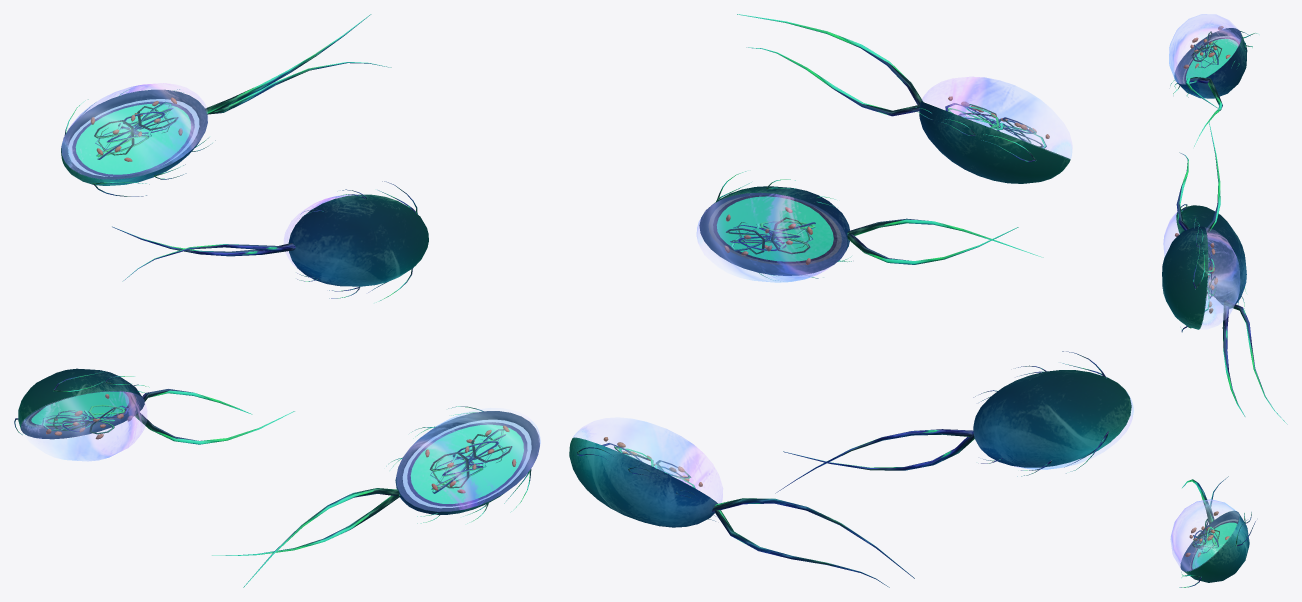
Rendered from NASA.04 (Nuevo).gltf.
3 views of the same model, side by side, from view 1: azimuth 30°, elevation 25°; view 2: azimuth 150°, elevation 25°; view 3: azimuth 270°, elevation 25° (orthographic). The views are drawn at different scales.
Parts seen in each view (by area): view 1: Sphere.009, Sphere.017, Sphere.010, Sphere.013, Sphere.007, Sphere.016, BezierCurve.015, BezierCurve.005, BezierCurve.008, BezierCurve.012, BezierCurve.016, BezierCurve.007 (+2 smaller); view 2: Sphere.009, Sphere.013, Sphere.016, Sphere.007, Sphere.017, Sphere.010, BezierCurve.012, BezierCurve.015, BezierCurve.005, BezierCurve.008, BezierCurve.009, BezierCurve.010; view 3: Sphere.009, Sphere.010, Sphere.013, Sphere.016, Sphere.007, Sphere.017, BezierCurve.012, BezierCurve.008, BezierCurve.005, BezierCurve.015, BezierCurve.006, BezierCurve.017 (+1 smaller).
Boxes of the visible parts, bbox=[...] form: Sphere.009: bbox=[21, 83, 540, 509]; Sphere.017: bbox=[25, 99, 531, 508]; Sphere.010: bbox=[288, 194, 428, 286]; Sphere.013: bbox=[18, 368, 144, 439]; Sphere.007: bbox=[61, 89, 207, 185]; Sphere.016: bbox=[395, 411, 539, 514]; BezierCurve.015: bbox=[212, 406, 531, 587]; BezierCurve.005: bbox=[64, 14, 391, 196]; BezierCurve.008: bbox=[112, 181, 417, 302]; BezierCurve.012: bbox=[14, 371, 294, 444]; BezierCurve.016: bbox=[429, 452, 483, 493]; BezierCurve.007: bbox=[94, 120, 148, 159]; Sphere.009: bbox=[573, 76, 1133, 502]; Sphere.013: bbox=[973, 370, 1131, 467]; Sphere.016: bbox=[569, 437, 717, 527]; Sphere.007: bbox=[919, 101, 1070, 183]; Sphere.017: bbox=[708, 195, 841, 265]; Sphere.010: bbox=[699, 186, 849, 275]; BezierCurve.012: bbox=[775, 351, 1109, 493]; BezierCurve.015: bbox=[577, 447, 914, 587]; BezierCurve.005: bbox=[737, 14, 1036, 162]; BezierCurve.008: bbox=[716, 171, 1043, 279]; BezierCurve.009: bbox=[760, 217, 815, 254]; BezierCurve.010: bbox=[725, 222, 780, 254]; Sphere.009: bbox=[1163, 14, 1241, 571]; Sphere.010: bbox=[1162, 226, 1208, 329]; Sphere.013: bbox=[1176, 205, 1246, 308]; Sphere.016: bbox=[1180, 510, 1249, 582]; Sphere.007: bbox=[1174, 28, 1247, 98]; Sphere.017: bbox=[1182, 36, 1239, 569]; BezierCurve.012: bbox=[1180, 204, 1287, 424]; BezierCurve.008: bbox=[1176, 122, 1220, 332]; BezierCurve.005: bbox=[1170, 31, 1257, 146]; BezierCurve.015: bbox=[1179, 476, 1255, 587]; BezierCurve.006: bbox=[1192, 41, 1221, 68]; BezierCurve.017: bbox=[1192, 526, 1219, 553].
Bounding box in the file's own units: 150 × 142 × 36.76.
Materials: 5 (3 with a texture image).
